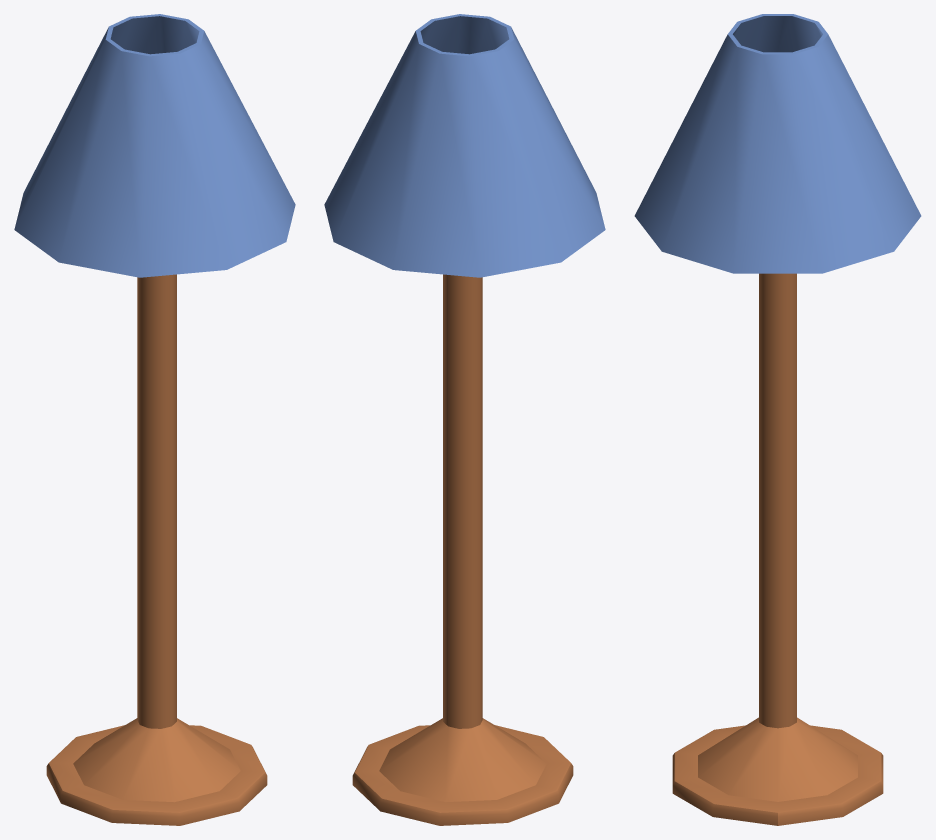
The model's file is Lamp.fbx.
The picture shows the model from 3 angles, left to right: view 1: azimuth 30°, elevation 25°; view 2: azimuth 150°, elevation 25°; view 3: azimuth 270°, elevation 25°; orthographic projection.
Parts seen in each view (by area): view 1: Lamp; view 2: Lamp; view 3: Lamp.
Boxes of the visible parts, box(x1,y1,x2,y2) form: Lamp: box(14, 14, 295, 825); Lamp: box(324, 14, 605, 825); Lamp: box(634, 14, 921, 825).
Bounding box in the file's own units: 90.53 × 272 × 95.19.
